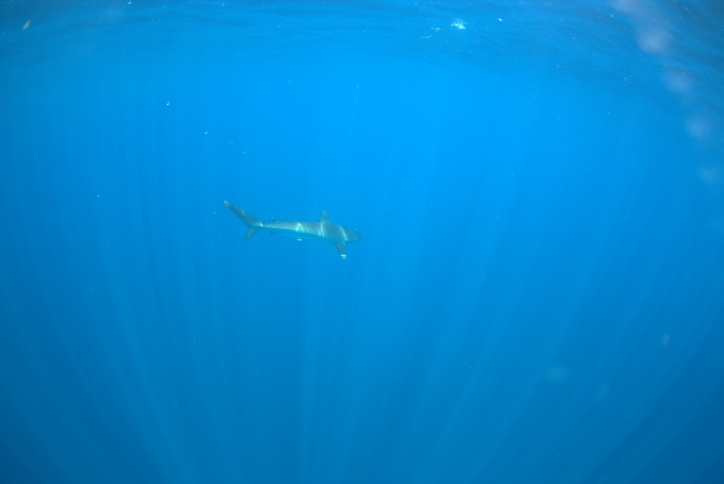Sedoso: (205, 192, 383, 271)
